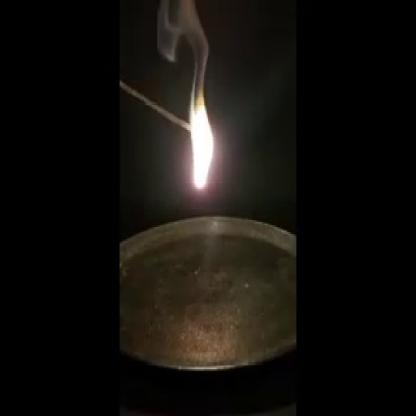fire: (187, 89, 217, 194)
